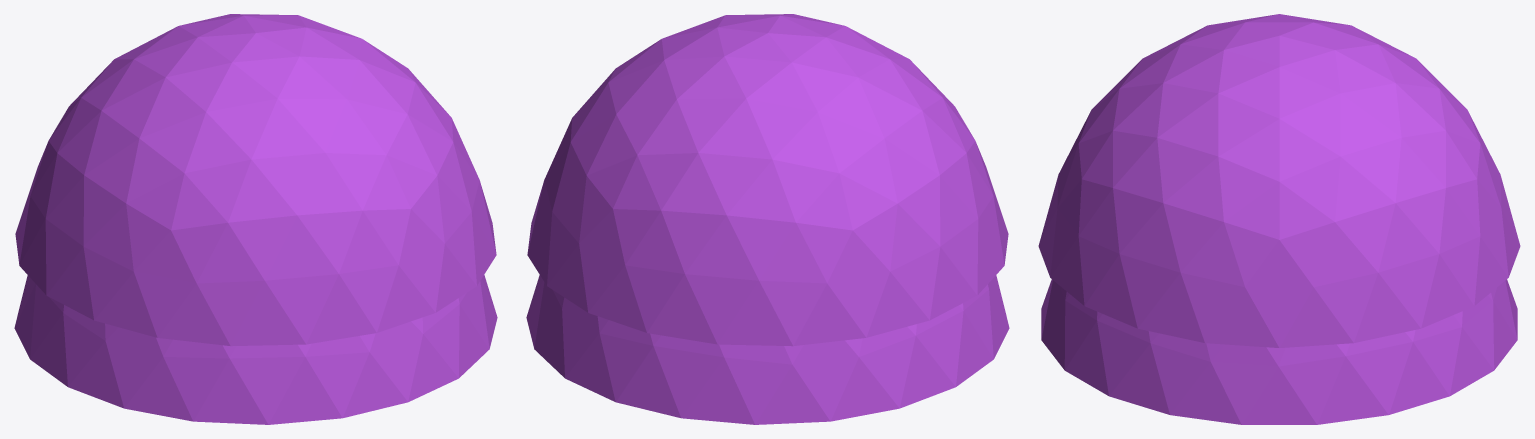
File: Krzak.fbx
The picture shows the model from 3 angles, left to right: view 1: azimuth 30°, elevation 25°; view 2: azimuth 150°, elevation 25°; view 3: azimuth 270°, elevation 25°; orthographic projection.
Parts seen in each view (by area): view 1: Icosphere, Icosphere.001; view 2: Icosphere, Icosphere.001; view 3: Icosphere, Icosphere.001.
Part boxes in pixels (x1=…): Icosphere: x1=15, y1=14, x2=496, y2=346; Icosphere.001: x1=14, y1=275, x2=497, y2=424; Icosphere: x1=527, y1=14, x2=1008, y2=346; Icosphere.001: x1=526, y1=275, x2=1009, y2=424; Icosphere: x1=1038, y1=14, x2=1520, y2=347; Icosphere.001: x1=1041, y1=279, x2=1517, y2=424.
Size of the model in its own units: 207 by 137 by 207.
